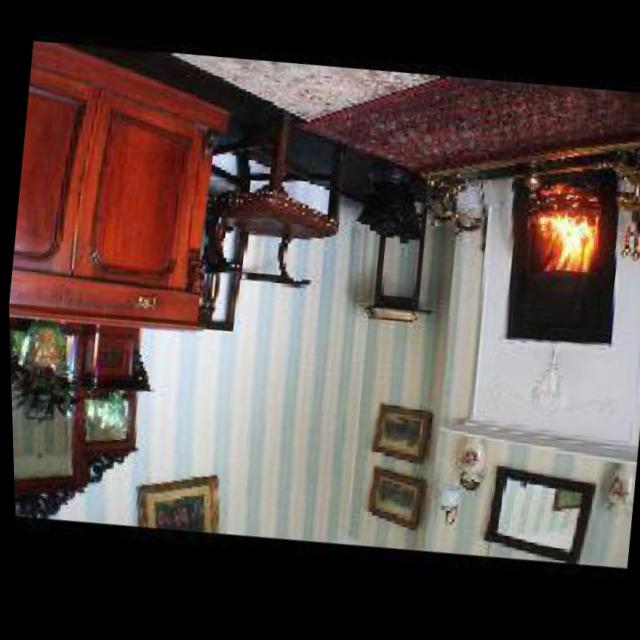Fire: (519, 193, 610, 289)
